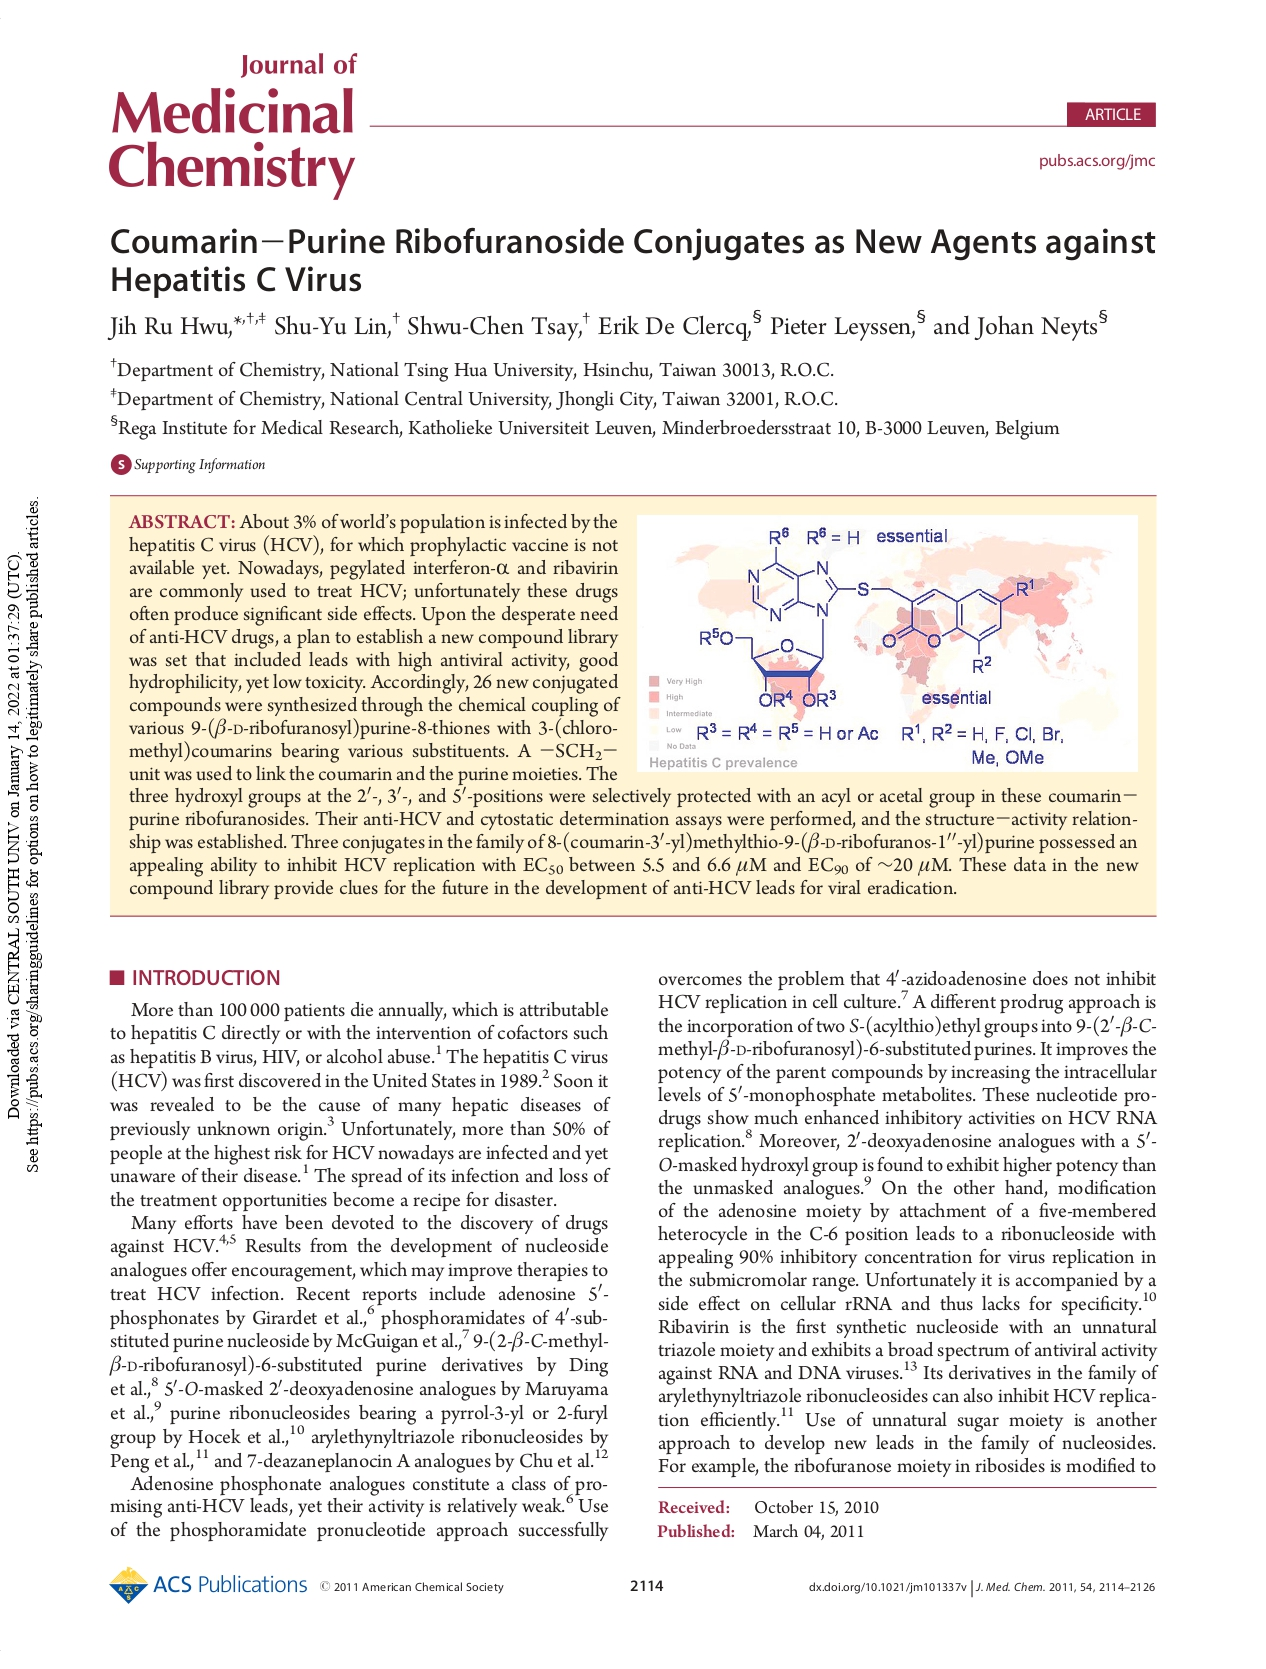exist_molecular: (696, 525, 1036, 710)
